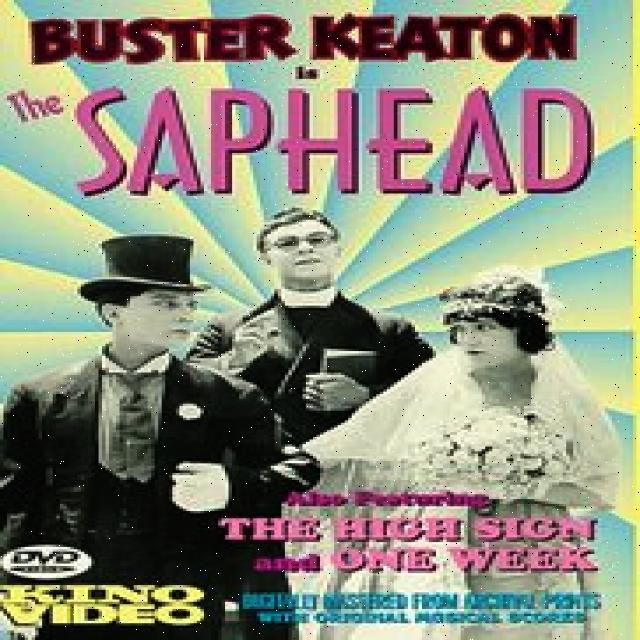movie-judul: (10, 11, 614, 210)
picture: (60, 211, 598, 492)
